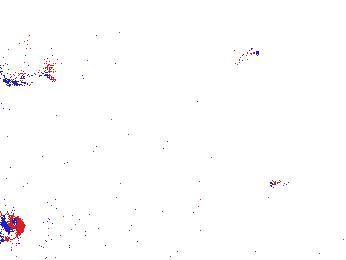X-ray fish: (1, 39, 53, 76), (1, 210, 26, 244)
red belly glassfish: (216, 47, 262, 68), (266, 176, 311, 190)
redtail glassfish: (1, 65, 55, 89)
